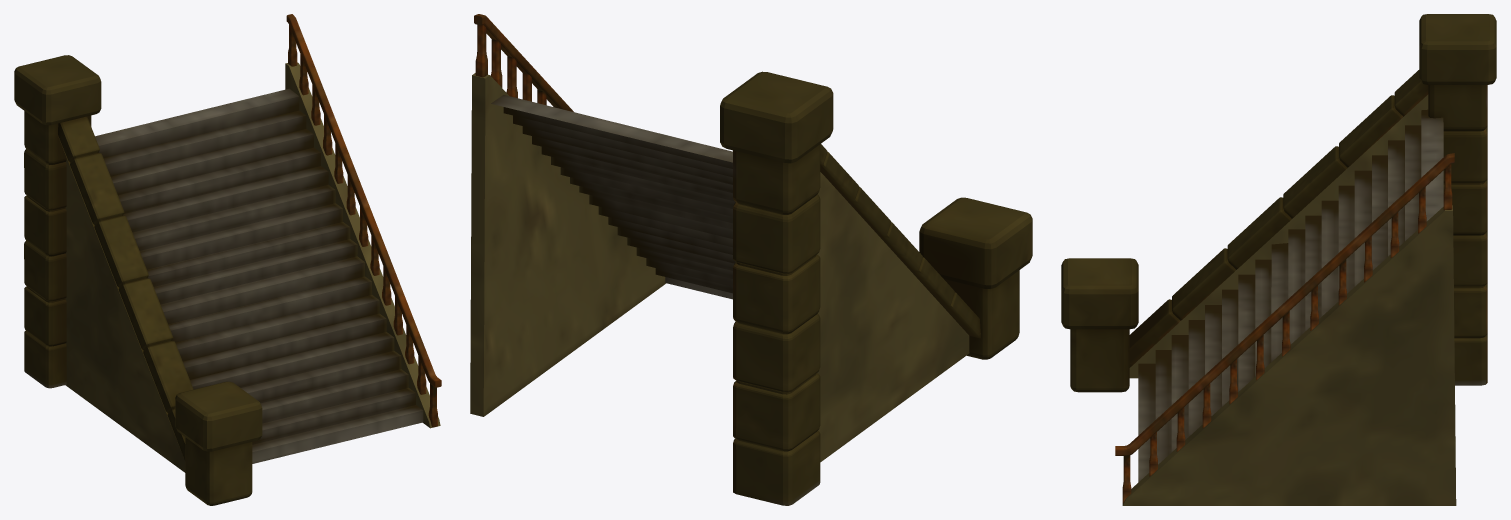
File: Library_Ladder1.fbx
3 renders of one model, left to right at view 1: azimuth 30°, elevation 25°; view 2: azimuth 150°, elevation 25°; view 3: azimuth 270°, elevation 25°, orthographic. The views are drawn at different scales.
Parts seen in each view (by area): view 1: Library_Ladder1; view 2: Library_Ladder1; view 3: Library_Ladder1.
Part boxes in pixels (x1,y1,x2,y2): Library_Ladder1: (14,14,441,505); Library_Ladder1: (470,14,1032,505); Library_Ladder1: (1061,14,1496,505).
Bounding box in the file's own units: 472 × 526 × 589.
1 material, 1 textured.
